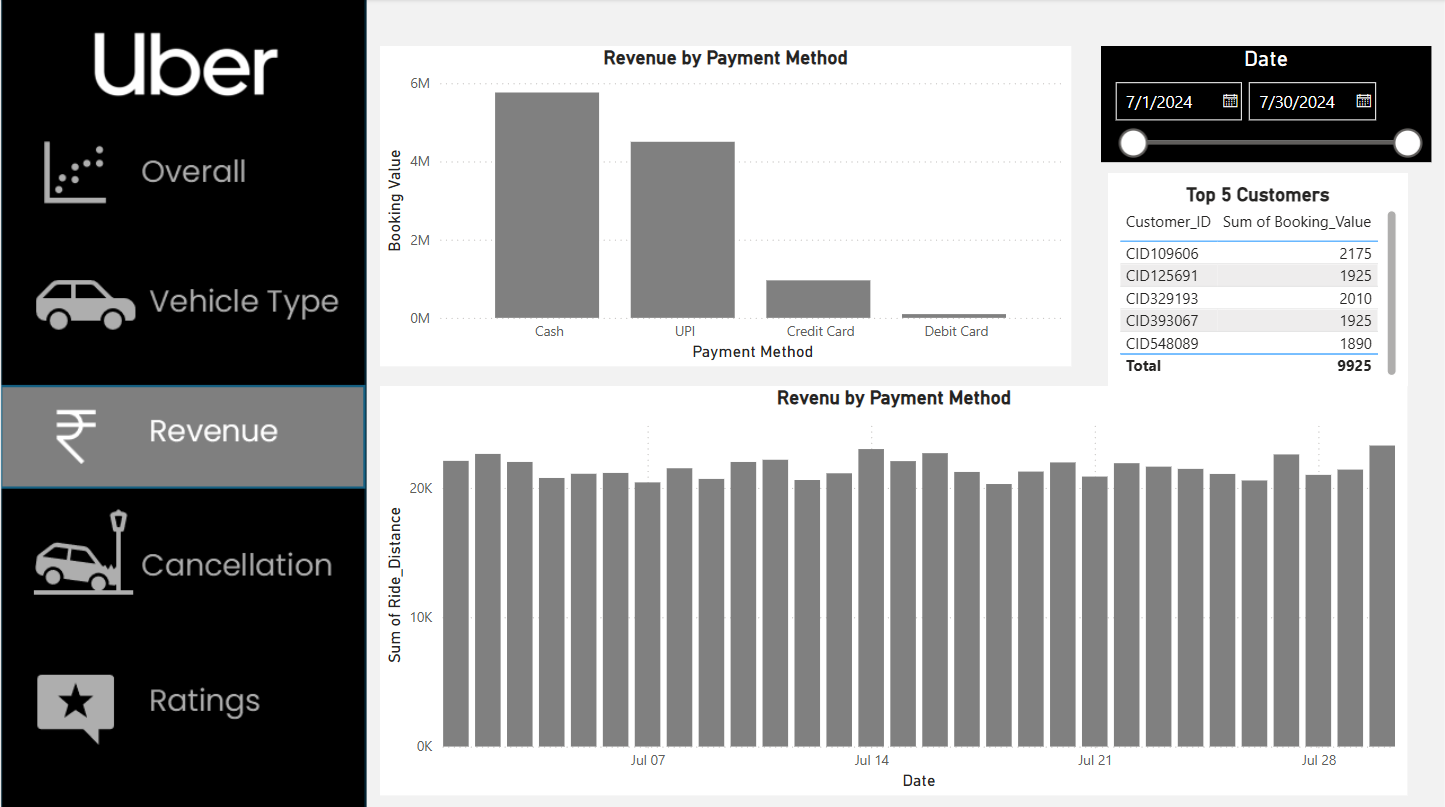

The dashboard page shown, as its layout file describes it:
{"tool":"powerbi","page":{"name":"Revenue","canvas":[1280,720],"ordinal":2},"visuals":[{"type":"actionButton","box":[7.1,223.4,318.3,85.1],"z":0},{"type":"actionButton","box":[0,449.6,325.4,97.5],"z":1000},{"type":"actionButton","box":[10,459.6,325.4,97.5],"z":2000},{"type":"actionButton","box":[0,580.8,325.4,86.9],"z":3000},{"type":"actionButton","box":[0,109.1,325.4,91.3],"z":4000},{"type":"columnChart","title":"Revenue by Payment Method","fields":{"Y":["Sum(July.Booking_Value)"],"Category":["July.Payment_Method"]},"box":[335.7,41.4,612.9,284.3],"z":5000},{"type":"columnChart","title":"Revenu by Payment Method","fields":{"Y":["Sum(July.Ride_Distance)"],"Category":["July.Date"]},"box":[335.7,342.9,911.4,362.9],"z":6000},{"type":"slicer","title":"Date","fields":{"Values":["July.Date"]},"box":[975.7,41.4,292.9,102.9],"z":7000},{"type":"tableEx","title":"Top 5 Customers","fields":{"Values":["July.Customer_ID","Sum(July.Booking_Value)"]},"box":[981.4,154.3,265.7,188.6],"z":8000}]}

Visuals, with their boxes in screenshot pixels (x1, y1, x2, y2), scaled from the page's 1280x720 canvas onto the 1445x807 screenshot:
actionButton: box(8, 250, 367, 346)
actionButton: box(0, 504, 367, 613)
actionButton: box(11, 515, 379, 624)
actionButton: box(0, 651, 367, 748)
actionButton: box(0, 122, 367, 225)
"Revenue by Payment Method" columnChart: box(379, 46, 1071, 365)
"Revenu by Payment Method" columnChart: box(379, 384, 1408, 791)
"Date" slicer: box(1101, 46, 1432, 162)
"Top 5 Customers" tableEx: box(1108, 173, 1408, 384)
